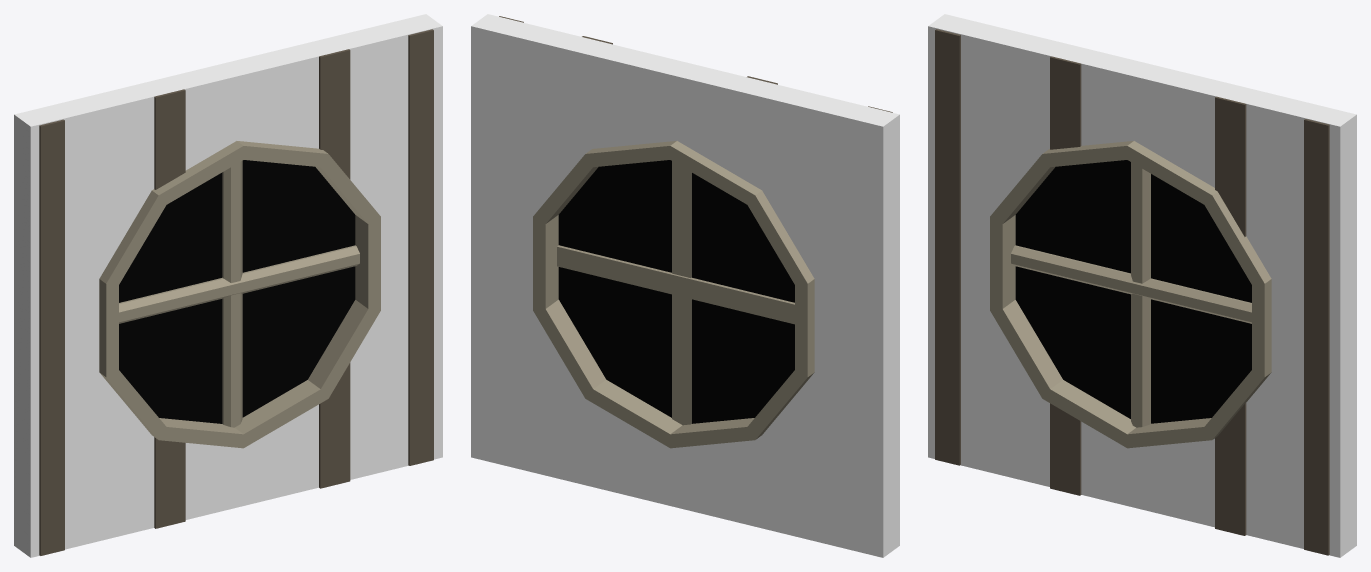
Rendered from _ROOF_Window_round_1.fbx.
The picture shows the model from 3 angles, left to right: view 1: azimuth 30°, elevation 25°; view 2: azimuth 150°, elevation 25°; view 3: azimuth 330°, elevation 25°; orthographic projection.
Visible parts, largest first — view 1: ROOF_Window_round_1; view 2: ROOF_Window_round_1; view 3: ROOF_Window_round_1.
Part boxes in pixels (x1,y1,x2,y2): ROOF_Window_round_1: [14, 14, 442, 557]; ROOF_Window_round_1: [471, 14, 899, 557]; ROOF_Window_round_1: [928, 14, 1356, 557].
Size of the model in its own units: 100 by 100 by 12.75.
